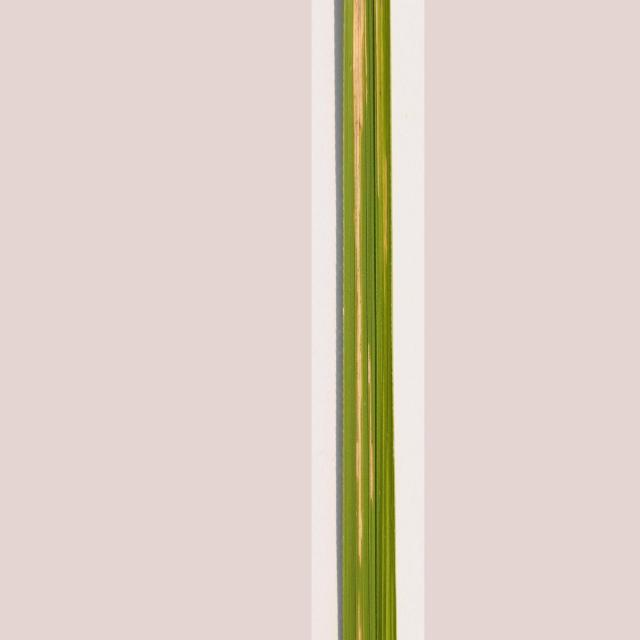Bacterial leaf blight: (334, 0, 404, 640)
